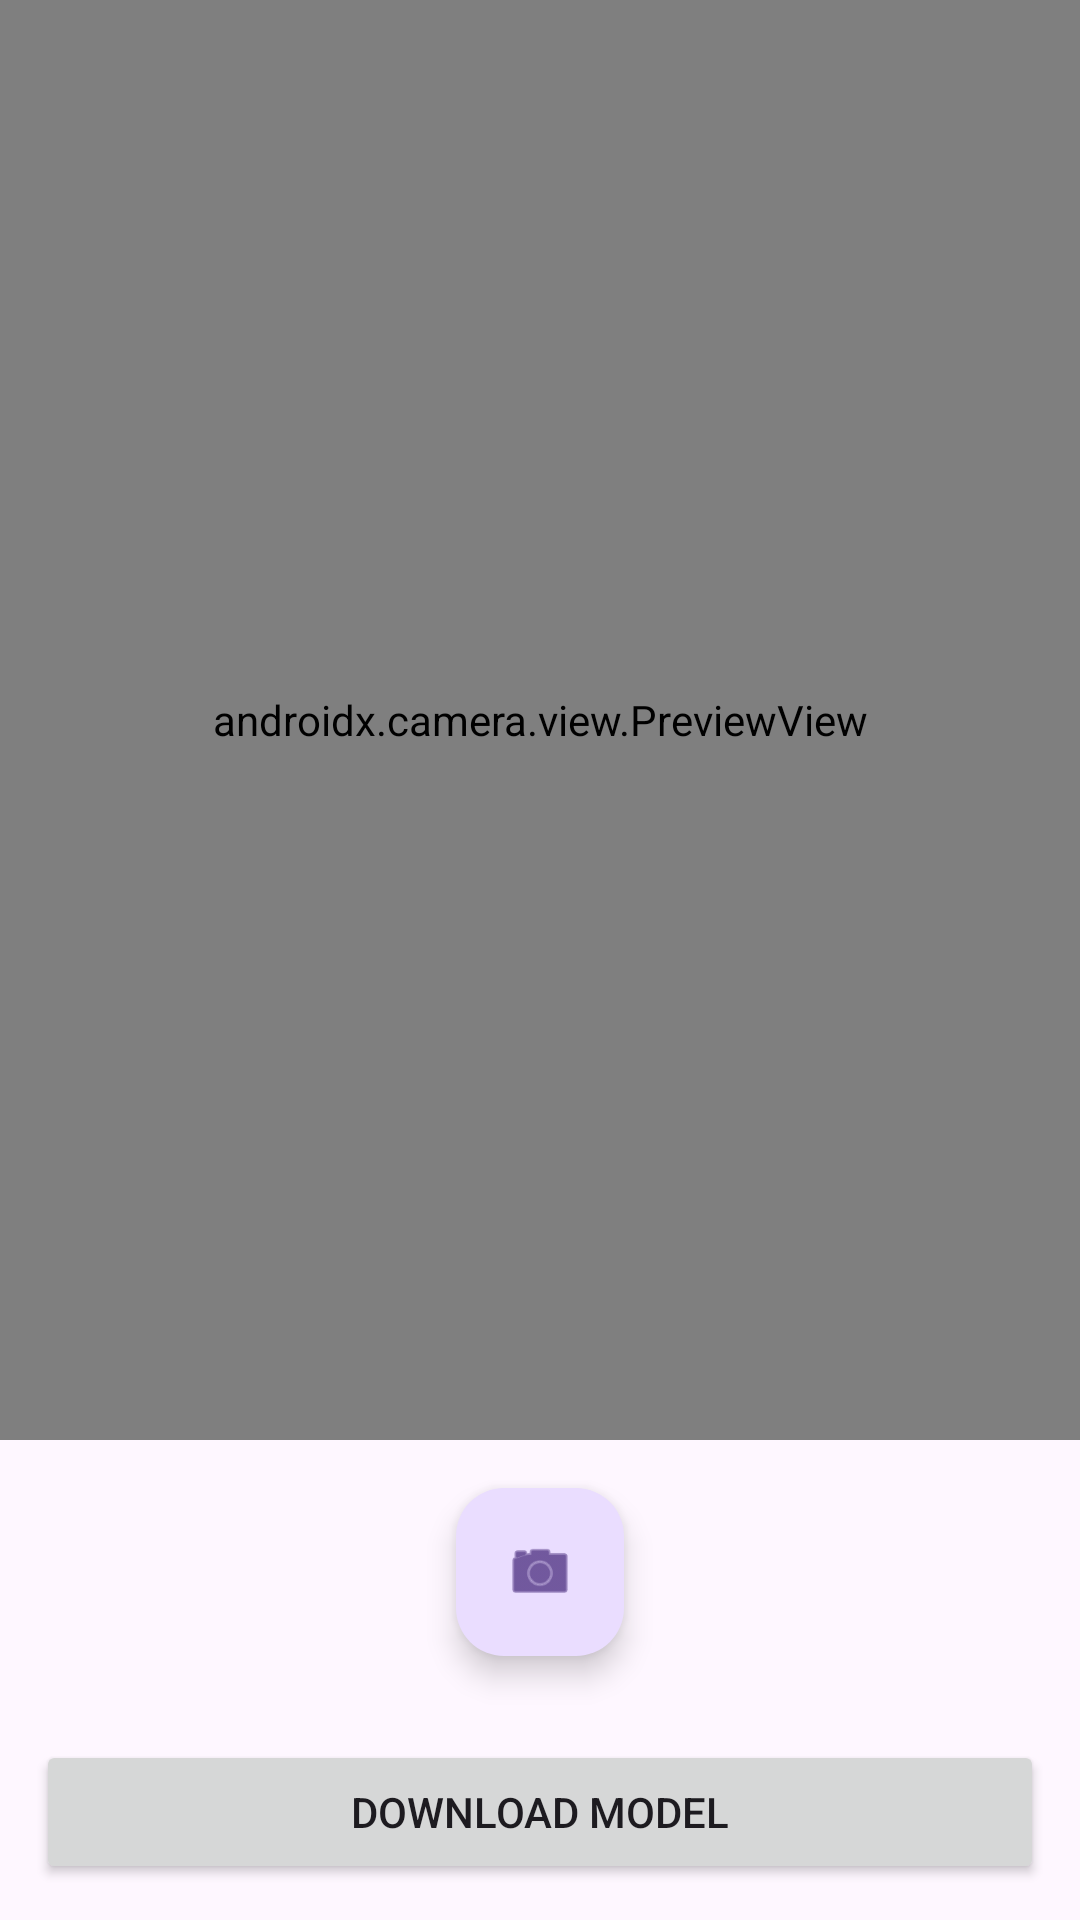

Icon bounding boxes for this 1080 × 1920 phone screenshot, format (x1, y1, x2, y2):
Capture: (456, 1488, 624, 1656)
